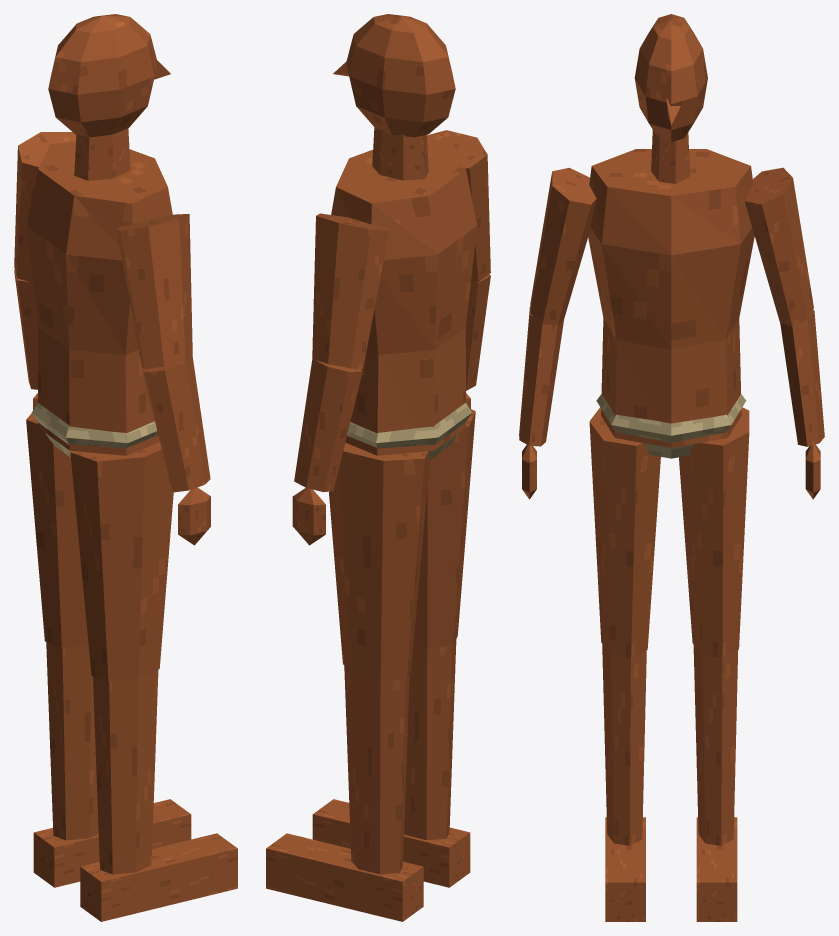
Rendered from cuerpo_robusto.glb.
3 renders of one model, left to right at view 1: azimuth 30°, elevation 25°; view 2: azimuth 150°, elevation 25°; view 3: azimuth 270°, elevation 25°, orthographic. The views are drawn at different scales.
Parts seen in each view (by area): view 1: torso, muslo_der, pierna_der, cabeza, brazo_der, muslo_izq, pierna_izq, pie_der, antebrazo_der, pie_izq, brazo_izq, cuello (+3 smaller); view 2: torso, muslo_izq, pierna_izq, cabeza, brazo_izq, muslo_der, pierna_der, pie_izq, antebrazo_izq, pie_der, brazo_der, cuello (+3 smaller); view 3: torso, muslo_der, muslo_izq, pierna_der, pierna_izq, cabeza, brazo_izq, brazo_der, antebrazo_izq, antebrazo_der, pie_izq, pie_der (+4 smaller).
Boxes of the visible parts, box(x1,y1,x2,y2) form: torso: box(26, 141, 172, 455); muslo_der: box(70, 442, 173, 681); pierna_der: box(93, 670, 158, 874); cabeza: box(48, 14, 170, 137); brazo_der: box(116, 214, 192, 369); muslo_izq: box(26, 413, 88, 647); pierna_izq: box(46, 642, 98, 840); pie_der: box(80, 833, 237, 921); antebrazo_der: box(142, 357, 210, 492); pie_izq: box(33, 799, 191, 887); brazo_izq: box(14, 132, 76, 282); cuello: box(74, 128, 130, 180); torso: box(331, 141, 477, 455); muslo_izq: box(329, 442, 429, 681); pierna_izq: box(344, 666, 409, 874); cabeza: box(333, 14, 455, 137); brazo_izq: box(312, 213, 389, 368); muslo_der: box(413, 408, 475, 647); pierna_der: box(404, 640, 456, 840); pie_izq: box(266, 833, 423, 921); antebrazo_izq: box(294, 358, 362, 492); pie_der: box(312, 799, 470, 887); brazo_der: box(426, 130, 490, 282); cuello: box(372, 127, 428, 180); torso: box(588, 149, 754, 447); muslo_der: box(589, 407, 660, 657); muslo_izq: box(679, 407, 749, 657); pierna_der: box(602, 644, 646, 845); pierna_izq: box(693, 645, 738, 845); cabeza: box(634, 14, 707, 141); brazo_izq: box(744, 167, 813, 325); brazo_der: box(530, 167, 596, 325); antebrazo_izq: box(780, 309, 824, 446); antebrazo_der: box(519, 307, 563, 446); pie_izq: box(696, 817, 737, 921); pie_der: box(605, 817, 645, 921).
Bounding box in the file's own units: 0.35 × 1.85 × 0.6.
1 material, 1 textured.
